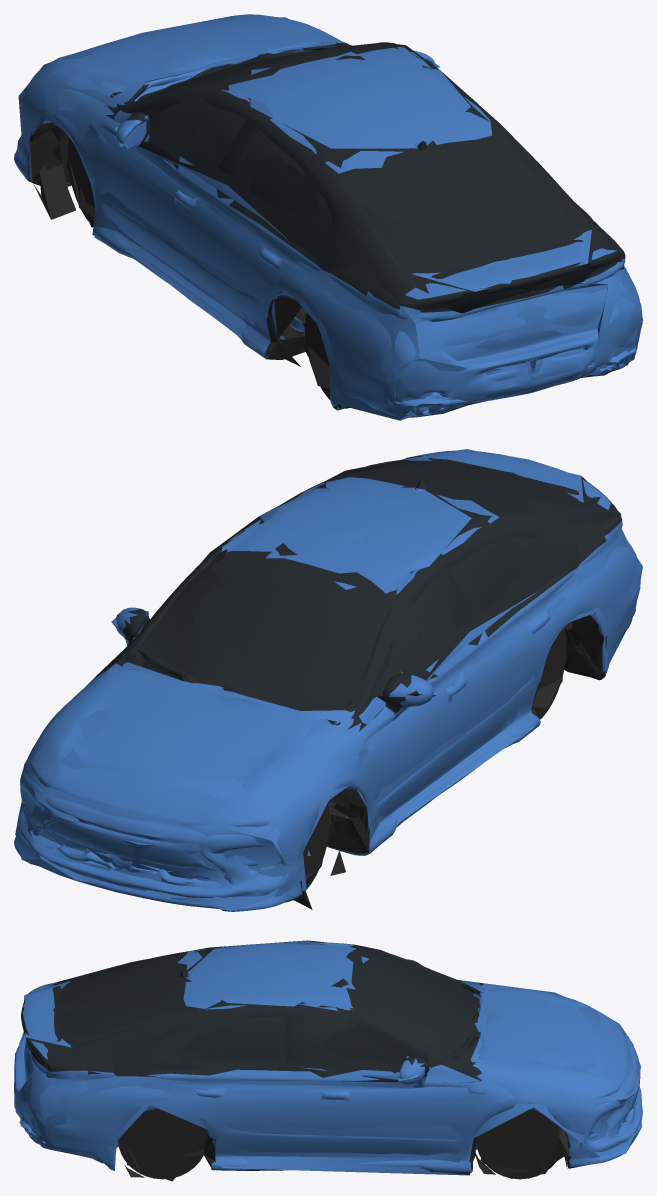
The model's file is hyundai-sonata.glb.
3 renders of one model, top to bottom at view 1: azimuth 30°, elevation 25°; view 2: azimuth 150°, elevation 25°; view 3: azimuth 270°, elevation 25°, orthographic. The views are drawn at different scales.
Visible parts, largest first — view 1: body, far; view 2: body, far; view 3: body, far.
Part boxes in pixels (x1=…): body: x1=14, y1=14, x2=642, y2=417; far: x1=15, y1=16, x2=642, y2=420; body: x1=14, y1=450, x2=640, y2=911; far: x1=15, y1=449, x2=642, y2=910; body: x1=14, y1=942, x2=642, y2=1179; far: x1=14, y1=940, x2=641, y2=1181.
Bounding box in the file's own units: 2.17 × 1.53 × 4.93.
